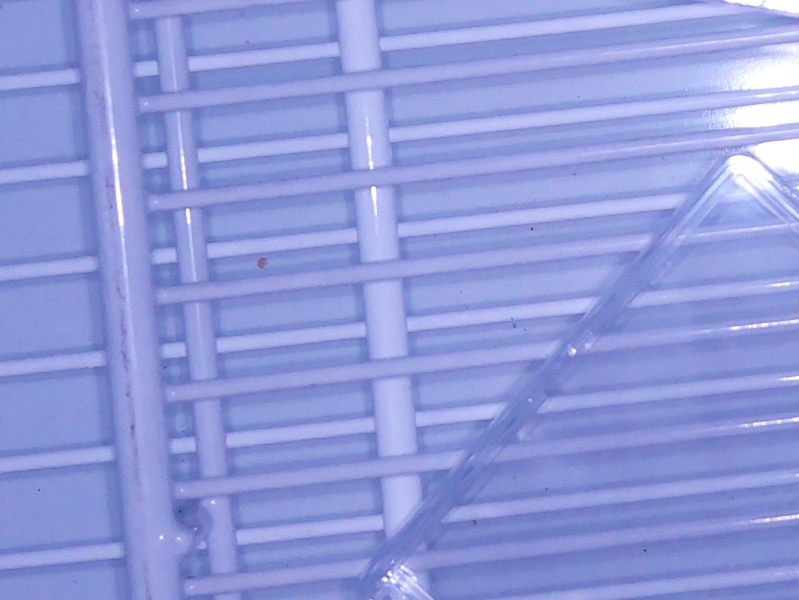plate: (359, 153, 799, 600)
